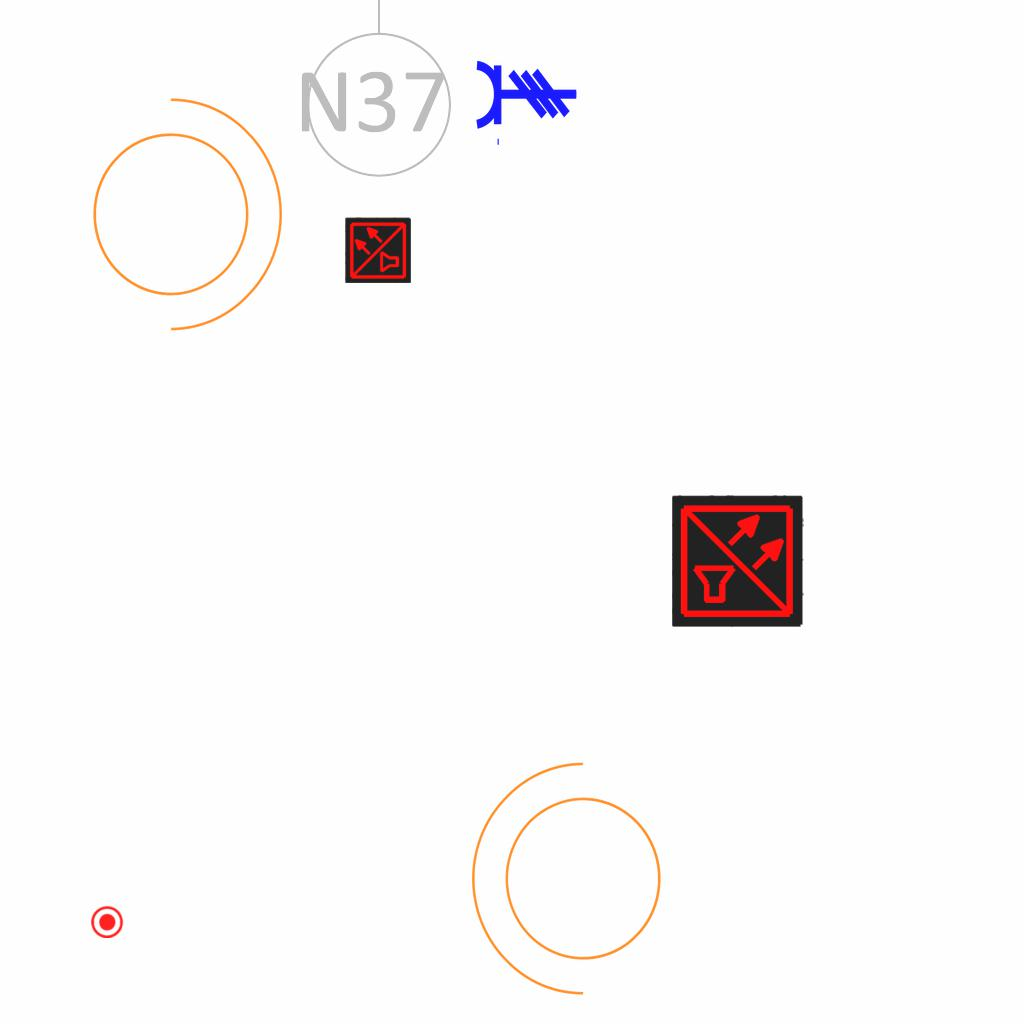CEE_Drehstrom_Steckdose_16_32_A: (474, 58, 578, 148)
OKW_Multisensormelder_(Kombination_optischer_Rauch-Kahlenmonoxid_Waerme-Melder): (672, 495, 804, 627), (345, 217, 411, 283)
Scheinwerfer_fuer_Alarmbeleuchtung: (461, 753, 686, 1017), (68, 76, 293, 340)
Taster: (91, 905, 124, 938)
